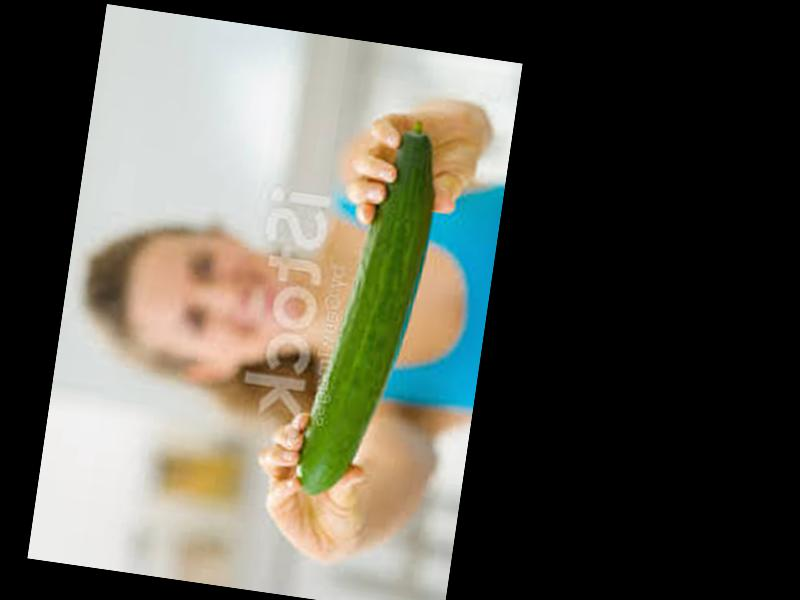Cucumber: (297, 112, 445, 507)
